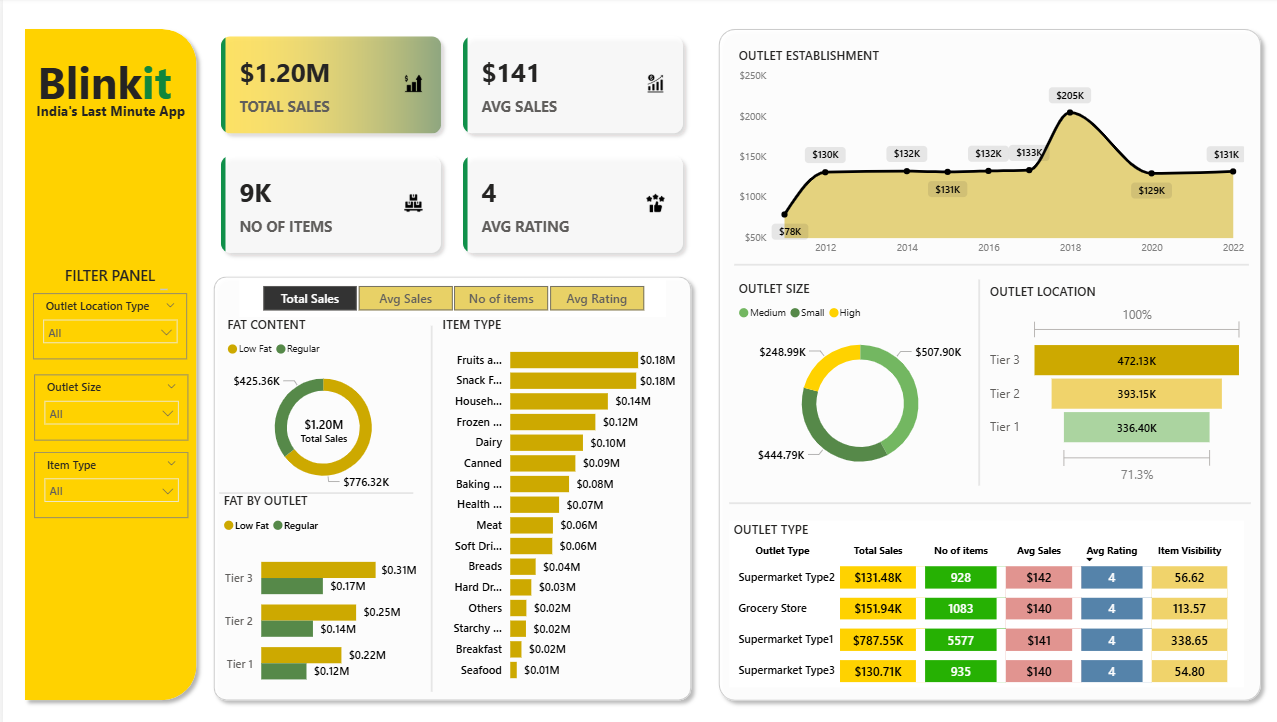

What the dashboard file says about the page in this screenshot:
{"tool":"powerbi","page":{"name":"Page 1","canvas":[1400,800],"ordinal":0},"visuals":[{"type":"shape","box":[15,25.5,205,750],"z":0},{"type":"textbox","box":[253.5,26,205,750],"z":1000},{"type":"textbox","box":[33,54,168.1,76.5],"z":2000},{"type":"textbox","box":[15,109.6,205.6,40.5],"z":3000},{"type":"cardVisual","fields":{"Data":["BlinkIT Grocery Data.Total Sales","BlinkIT Grocery Data.Avg Sales","BlinkIT Grocery Data.No of items","BlinkIT Grocery Data.Avg Rating"]},"box":[220.6,25.5,538.8,270.2],"z":4000},{"type":"shape","box":[220.6,295.7,538.8,480.3],"z":5000},{"type":"donutChart","title":"FAT CONTENT","fields":{"Y":["BlinkIT Grocery Data.Total Sales"],"Category":["BlinkIT Grocery Data.Item Fat Content"]},"box":[240.1,348.2,219.1,198.1],"z":6000},{"type":"slicer","fields":{"Values":["Metrics.Metrics"]},"box":[258.1,307.7,465.3,40.5],"z":7000},{"type":"cardVisual","fields":{"Data":["BlinkIT Grocery Data.Total Sales"]},"box":[264.2,424.7,171.1,94.6],"z":8000},{"type":"clusteredBarChart","title":"FAT BY OUTLET","fields":{"Y":["BlinkIT Grocery Data.Total Sales"],"Category":["BlinkIT Grocery Data.Outlet Location Type"],"Series":["BlinkIT Grocery Data.Item Fat Content"]},"box":[235.6,540.3,220.6,229.6],"z":9000},{"type":"shape","box":[235.6,535.8,211.6,10.5],"z":10000},{"type":"shape","box":[460.8,358.7,13.5,399.2],"z":11000},{"type":"barChart","title":"ITEM TYPE","fields":{"Y":["BlinkIT Grocery Data.Total Sales"],"Category":["BlinkIT Grocery Data.Item Type"]},"box":[474.3,348.2,264.2,409.7],"z":12000},{"type":"shape","box":[771.4,25.5,609.4,750.4],"z":13000},{"type":"lineChart","title":"OUTLET ESTABLISHMENT","fields":{"Category":["BlinkIT Grocery Data.Outlet Establishment Year"],"Y":["BlinkIT Grocery Data.Total Sales"]},"box":[797,54,561.3,235.6],"z":14000},{"type":"shape","box":[797,289.7,561.3,6],"z":15000},{"type":"donutChart","title":"OUTLET SIZE","fields":{"Y":["BlinkIT Grocery Data.Total Sales"],"Category":["BlinkIT Grocery Data.Outlet Size"]},"box":[797,307.7,275,225],"z":16000},{"type":"shape","box":[1058.1,307.7,13.5,225.1],"z":17000},{"type":"funnel","title":"OUTLET LOCATION","fields":{"Category":["BlinkIT Grocery Data.Outlet Location Type"],"Y":["Sum(BlinkIT Grocery Data.Sales)"]},"box":[1071.6,312.2,286.7,223.6],"z":18000},{"type":"shape","box":[792.5,544.8,568.8,13.5],"z":19000},{"type":"pivotTable","title":"OUTLET TYPE","fields":{"Rows":["BlinkIT Grocery Data.Outlet Type"],"Values":["BlinkIT Grocery Data.Total Sales","BlinkIT Grocery Data.No of items","BlinkIT Grocery Data.Avg Sales","BlinkIT Grocery Data.Avg Rating","Sum(BlinkIT Grocery Data.Item Visibility)"]},"box":[792.5,571.8,561.3,181.6],"z":20000},{"type":"slicer","fields":{"Values":["BlinkIT Grocery Data.Outlet Location Type"]},"box":[33,322.7,168.1,72],"z":21000},{"type":"slicer","fields":{"Values":["BlinkIT Grocery Data.Outlet Size"]},"box":[34.5,411.2,168.1,72],"z":22000},{"type":"slicer","fields":{"Values":["BlinkIT Grocery Data.Item Type"]},"box":[34.5,496.8,168.1,72],"z":23000},{"type":"textbox","title":"FILTER PANEL","box":[49.5,291.2,135.1,33],"z":24000}]}

Visuals, with their boxes in screenshot pixels (x1, y1, x2, y2), scaled from the page's 1400x800 canvas onto the 1277x722 screenshot:
shape: locate(14, 23, 201, 700)
textbox: locate(231, 23, 418, 700)
textbox: locate(30, 49, 183, 118)
textbox: locate(14, 99, 201, 135)
cardVisual - BlinkIT Grocery Data.Total Sales x BlinkIT Grocery Data.Avg Sales: locate(201, 23, 693, 267)
shape: locate(201, 267, 693, 700)
"FAT CONTENT" donutChart: locate(219, 314, 419, 493)
slicer - Metrics.Metrics: locate(235, 278, 660, 314)
cardVisual - BlinkIT Grocery Data.Total Sales: locate(241, 383, 397, 469)
"FAT BY OUTLET" clusteredBarChart: locate(215, 488, 416, 695)
shape: locate(215, 484, 408, 493)
shape: locate(420, 324, 433, 684)
"ITEM TYPE" barChart: locate(433, 314, 674, 684)
shape: locate(704, 23, 1259, 700)
"OUTLET ESTABLISHMENT" lineChart: locate(727, 49, 1239, 261)
shape: locate(727, 261, 1239, 267)
"OUTLET SIZE" donutChart: locate(727, 278, 978, 481)
shape: locate(965, 278, 977, 481)
"OUTLET LOCATION" funnel: locate(977, 282, 1239, 484)
shape: locate(723, 492, 1242, 504)
"OUTLET TYPE" pivotTable: locate(723, 516, 1235, 680)
slicer - BlinkIT Grocery Data.Outlet Location Type: locate(30, 291, 183, 356)
slicer - BlinkIT Grocery Data.Outlet Size: locate(31, 371, 185, 436)
slicer - BlinkIT Grocery Data.Item Type: locate(31, 448, 185, 513)
"FILTER PANEL" textbox: locate(45, 263, 168, 293)
